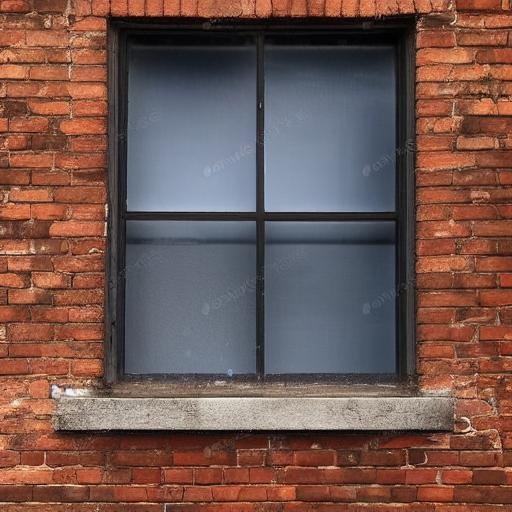Window: (54, 0, 457, 433)
